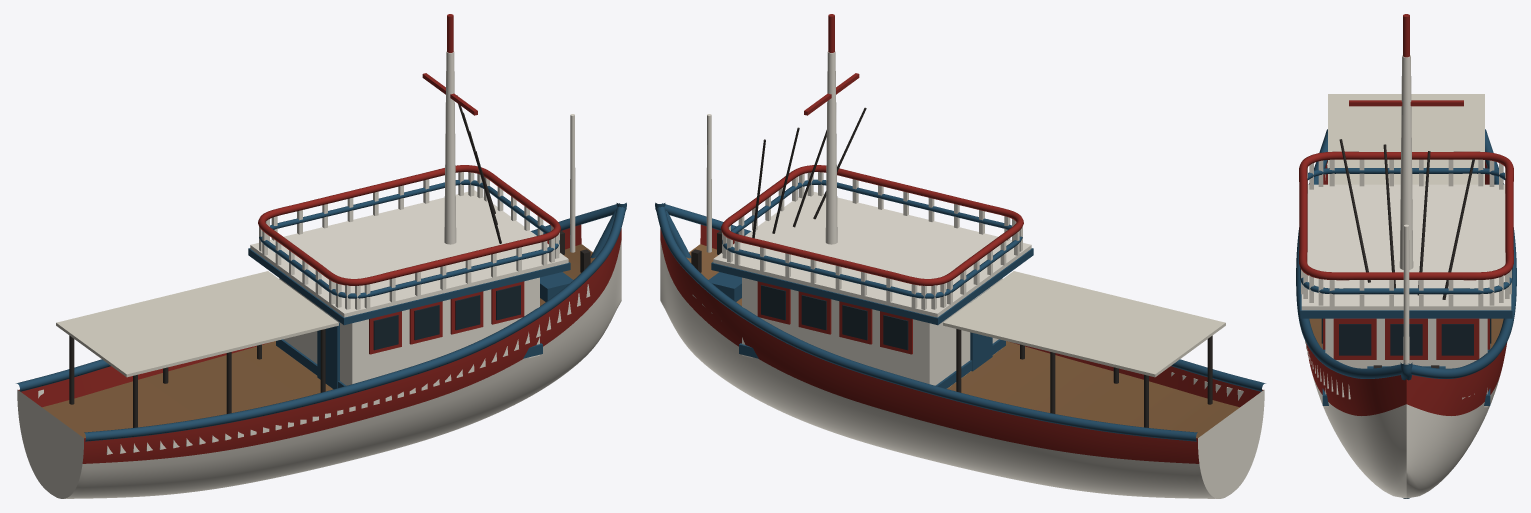
File: fishing-boat.glb
3 renders of one model, left to right at view 1: azimuth 30°, elevation 25°; view 2: azimuth 150°, elevation 25°; view 3: azimuth 270°, elevation 25°, orthographic. The views are drawn at different scales.
Parts seen in each view (by area): view 1: hull_lower_stbd, wheelhouse_roof, aft_canopy, hull_sheerstrake_stbd, main_deck, deckhouse, gunwale_rail_stbd, rail_top, transom, rail_mid, window_glass (×4), roof_fascia (+6 smaller); view 2: hull_lower_port, wheelhouse_roof, aft_canopy, hull_sheerstrake_port, main_deck, deckhouse, gunwale_rail_port, rail_top, transom, rail_mid, window_glass (×4), roof_fascia (+6 smaller); view 3: wheelhouse_roof, aft_canopy, rail_top, hull_lower_stbd, hull_lower_port, hull_sheerstrake_port, hull_sheerstrake_stbd, window_glass (×3), window_frame (×3), rail_mid, deckhouse, mast (+8 smaller).
Boxes of the visible parts, bbox=[...] form: hull_lower_stbd: bbox=[64, 240, 621, 498]; wheelhouse_roof: bbox=[250, 190, 568, 317]; aft_canopy: bbox=[56, 271, 338, 377]; hull_sheerstrake_stbd: bbox=[82, 228, 621, 463]; main_deck: bbox=[42, 244, 595, 438]; deckhouse: bbox=[279, 277, 539, 385]; gunwale_rail_stbd: bbox=[84, 206, 625, 441]; rail_top: bbox=[258, 165, 560, 285]; transom: bbox=[17, 389, 83, 498]; rail_mid: bbox=[259, 179, 559, 298]; window_glass (×4): bbox=[373, 285, 520, 350]; roof_fascia: bbox=[248, 248, 570, 325]; hull_lower_port: bbox=[660, 240, 1217, 498]; wheelhouse_roof: bbox=[713, 192, 1031, 317]; aft_canopy: bbox=[943, 271, 1225, 377]; hull_sheerstrake_port: bbox=[660, 228, 1199, 463]; main_deck: bbox=[686, 244, 1239, 438]; deckhouse: bbox=[742, 277, 1002, 386]; gunwale_rail_port: bbox=[656, 206, 1197, 441]; rail_top: bbox=[721, 165, 1023, 285]; transom: bbox=[1198, 389, 1264, 498]; rail_mid: bbox=[722, 179, 1022, 298]; window_glass (×4): bbox=[761, 285, 908, 350]; roof_fascia: bbox=[711, 248, 1033, 325]; wheelhouse_roof: bbox=[1301, 184, 1511, 310]; aft_canopy: bbox=[1328, 94, 1484, 184]; rail_top: bbox=[1299, 151, 1513, 280]; hull_lower_stbd: bbox=[1313, 378, 1406, 498]; hull_lower_port: bbox=[1406, 378, 1499, 498]; hull_sheerstrake_port: bbox=[1406, 342, 1507, 415]; hull_sheerstrake_stbd: bbox=[1306, 343, 1406, 415]; window_glass (×3): bbox=[1339, 324, 1473, 355]; window_frame (×3): bbox=[1333, 318, 1479, 359]; rail_mid: bbox=[1300, 168, 1512, 294]; deckhouse: bbox=[1325, 318, 1487, 407]; mast: bbox=[1399, 55, 1413, 269].
Bounding box in the file's own units: 14.13 × 9.58 × 4.22.
